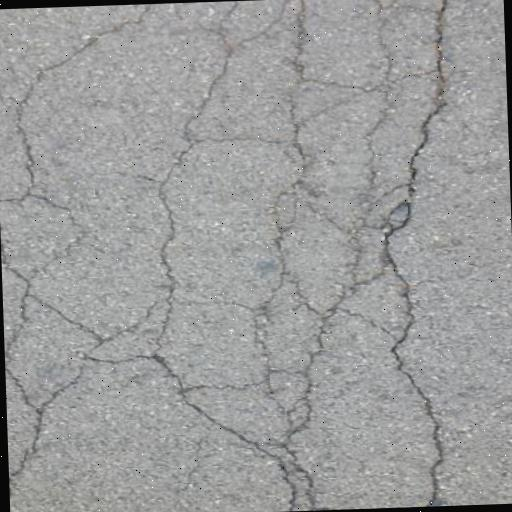spalling: (138, 10, 307, 361), (13, 332, 325, 501), (369, 0, 467, 494), (0, 3, 161, 219), (238, 4, 319, 384), (272, 262, 383, 454)
